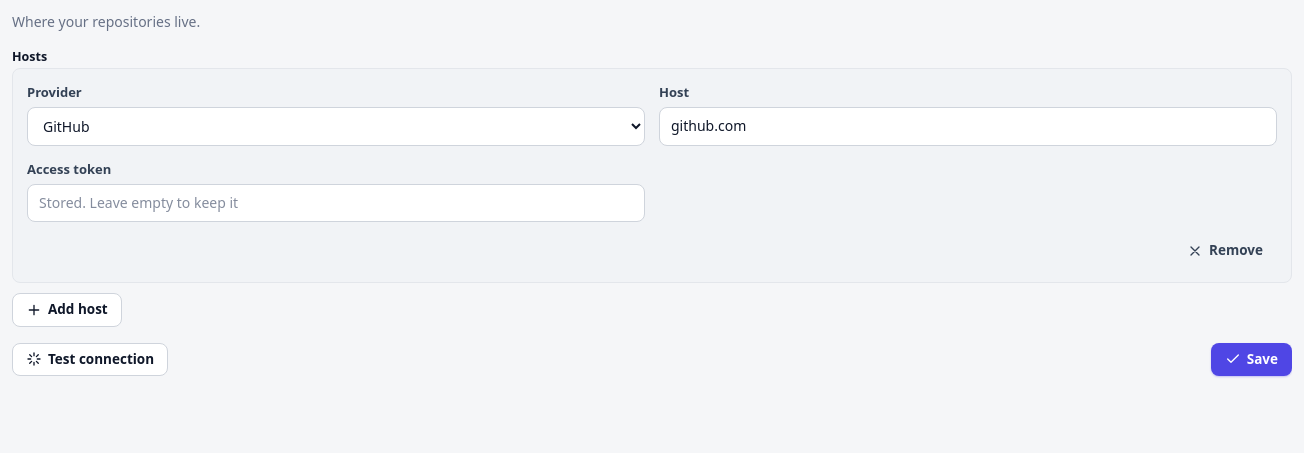
Test: ConnectorForm › shows a failed connection test without saving
The image size is (1304, 453).
What coordinates should you click on to do the following:
click the button "Test connection"
I would click on:
 (90, 359)
Its box is [12,342,168,376].
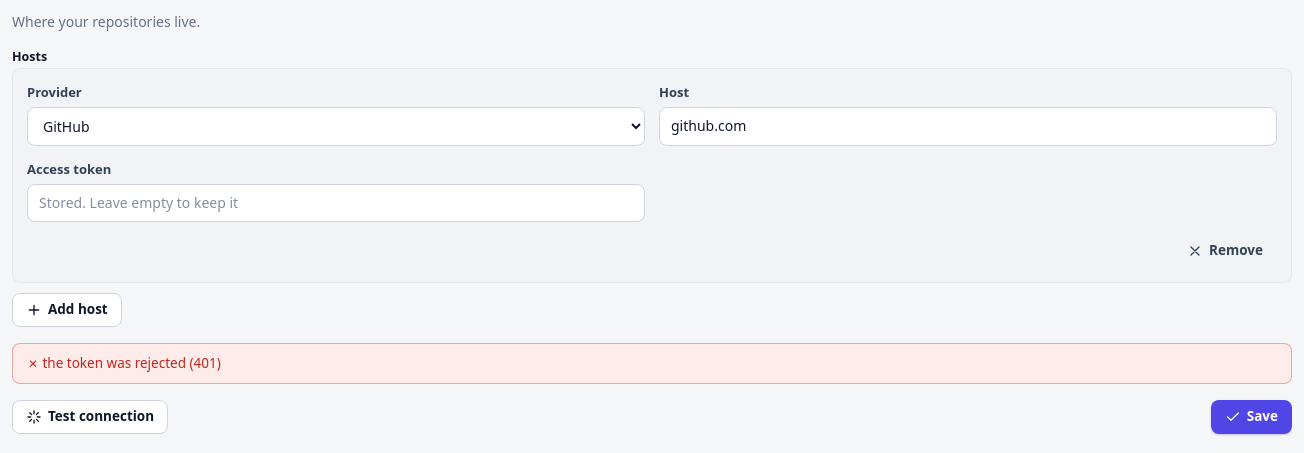
Now the message reads "✗ the token was rejected (401)", box [12,342,1292,384]
